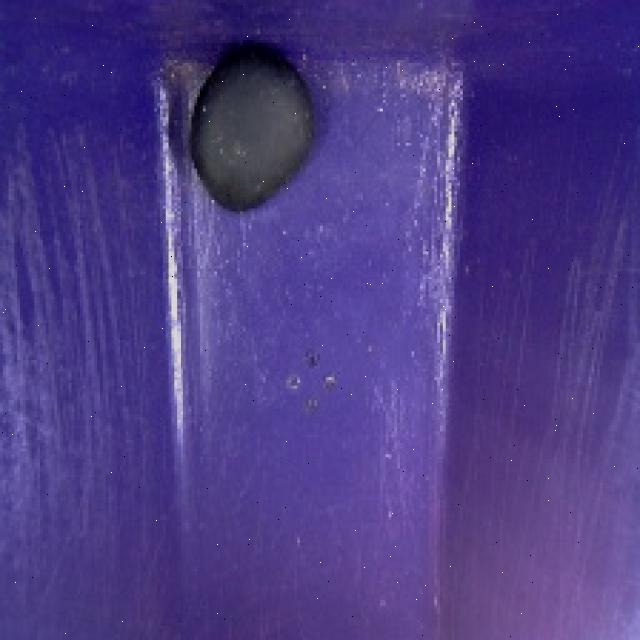cobbles: (177, 38, 326, 226)
